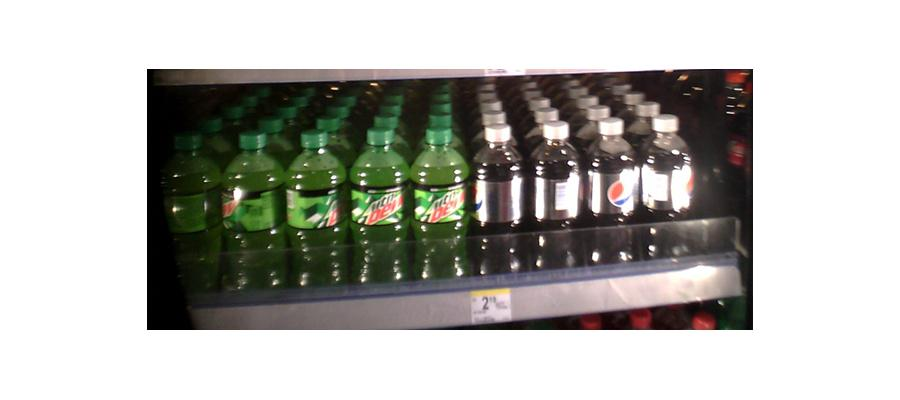bottle: (411, 111, 470, 285), (224, 132, 286, 294), (348, 125, 409, 287), (162, 136, 222, 297), (285, 131, 346, 289), (474, 108, 526, 281), (531, 120, 583, 267), (586, 120, 637, 261), (640, 113, 697, 233)
